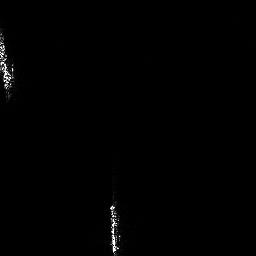ship: (108, 202, 121, 256), (1, 34, 13, 91)
